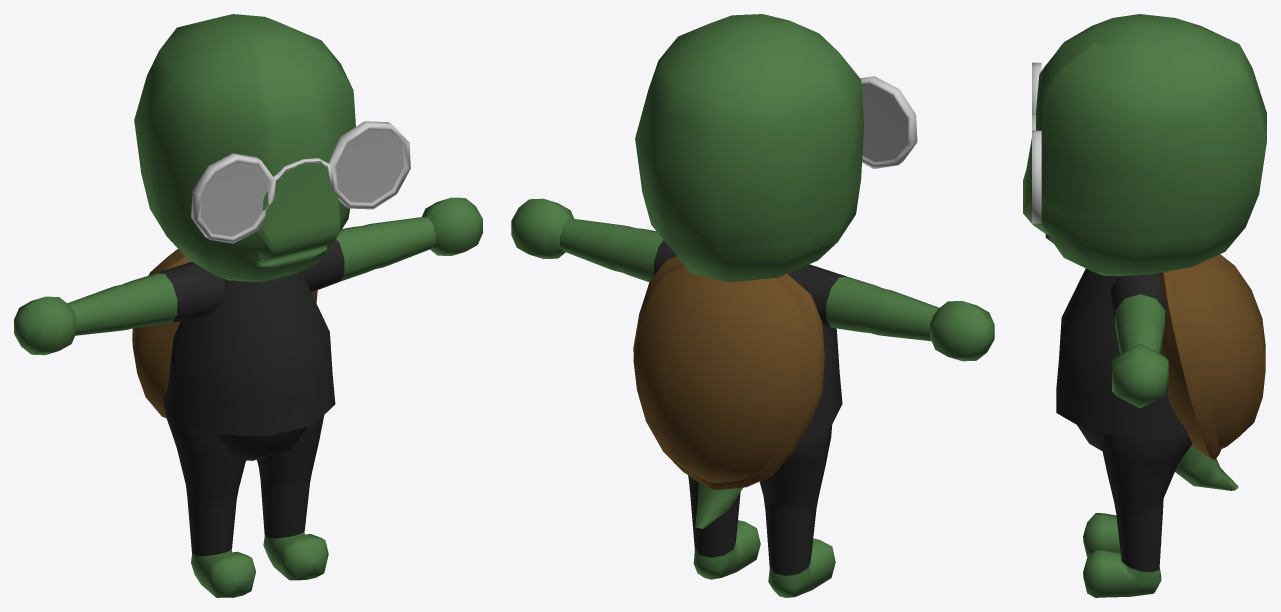
Rendered from Kirk_Glasses.fbx.
The picture shows the model from 3 angles, left to right: view 1: azimuth 30°, elevation 25°; view 2: azimuth 150°, elevation 25°; view 3: azimuth 270°, elevation 25°; orthographic projection. The views are drawn at different scales.
Visible parts, largest first — view 1: body_geo_01, Glasses; view 2: body_geo_01, Glasses; view 3: body_geo_01, Glasses.
Boxes of the visible parts, <box> form: body_geo_01: <box>14,14,482,597</box>; Glasses: <box>191,121,410,243</box>; body_geo_01: <box>511,14,994,597</box>; Glasses: <box>860,76,917,168</box>; body_geo_01: <box>1023,14,1266,597</box>; Glasses: <box>1032,62,1041,223</box>.
Bounding box in the file's own units: 7.05 × 7.88 × 3.19.
